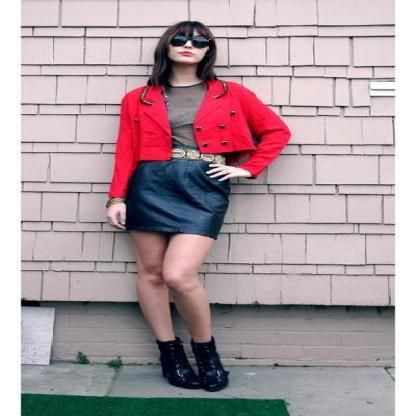jacket: (88, 80, 298, 207)
shirt: (164, 85, 209, 159)
shoe: (156, 336, 228, 391)
skirt: (112, 157, 236, 240)
